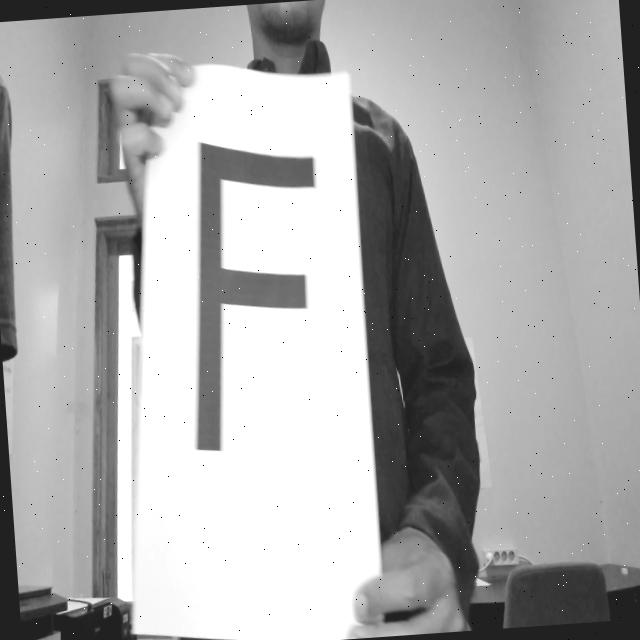f: (164, 110, 342, 479)
